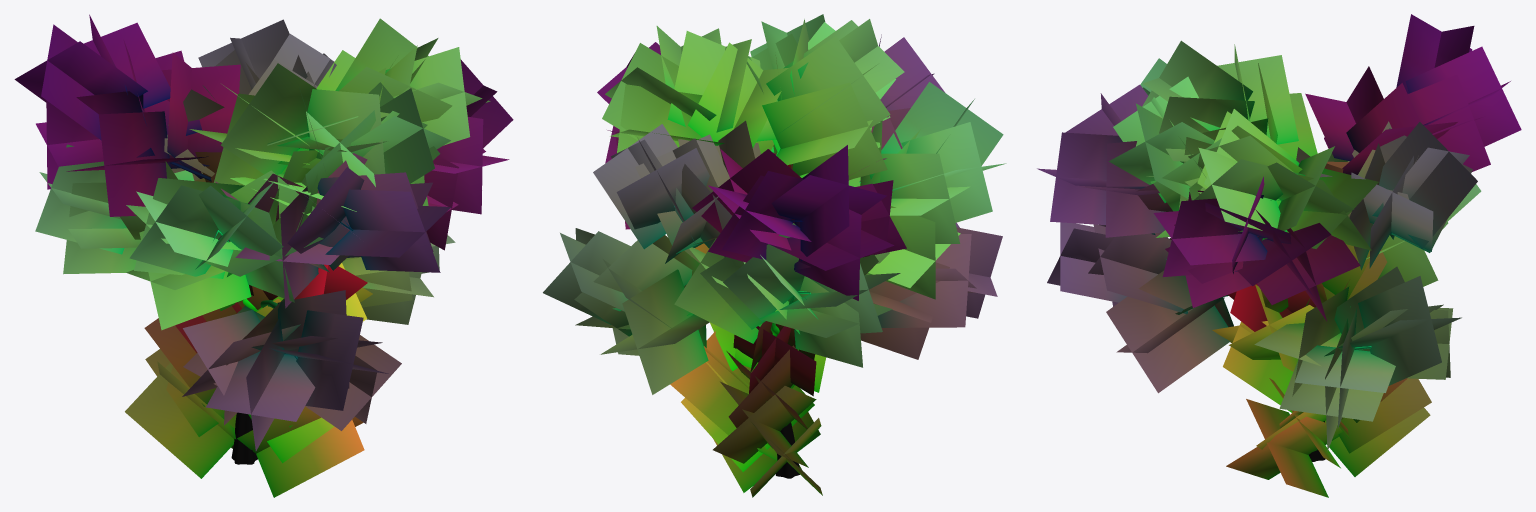
Rendered from URP_P3_Tree_10_LOD_1.fbx.
3 views of the same model, side by side, from view 1: azimuth 30°, elevation 25°; view 2: azimuth 150°, elevation 25°; view 3: azimuth 270°, elevation 25° (orthographic). The views are drawn at different scales.
Parts seen in each view (by area): view 1: Tree_10_LOD_1; view 2: Tree_10_LOD_1; view 3: Tree_10_LOD_1.
Part boxes in pixels (left/top/right/bottom): Tree_10_LOD_1: left=14, top=14, right=513, bottom=497; Tree_10_LOD_1: left=543, top=14, right=1006, bottom=497; Tree_10_LOD_1: left=1037, top=14, right=1521, bottom=497.
Bounding box in the file's own units: 484 × 537 × 546.
